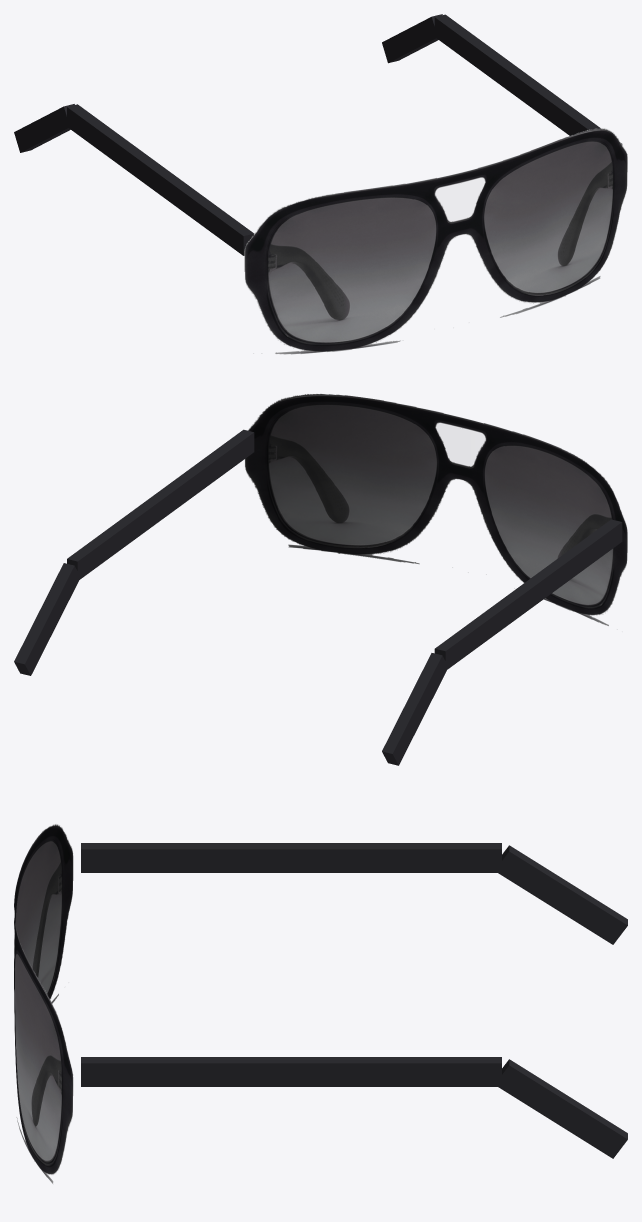
3 renders of one model, top to bottom at view 1: azimuth 30°, elevation 25°; view 2: azimuth 150°, elevation 25°; view 3: azimuth 270°, elevation 25°, orthographic. The views are drawn at different scales.
Parts seen in each view (by area): view 1: anteojo; view 2: anteojo; view 3: anteojo.
Part boxes in pixels (x1=…): anteojo: x1=14, y1=14, x2=627, y2=354; anteojo: x1=14, y1=394, x2=627, y2=765; anteojo: x1=14, y1=824, x2=627, y2=1183.
Size of the model in its own units: 0.142 by 0.0563 by 0.165.
Materials: 2 (1 with a texture image).
